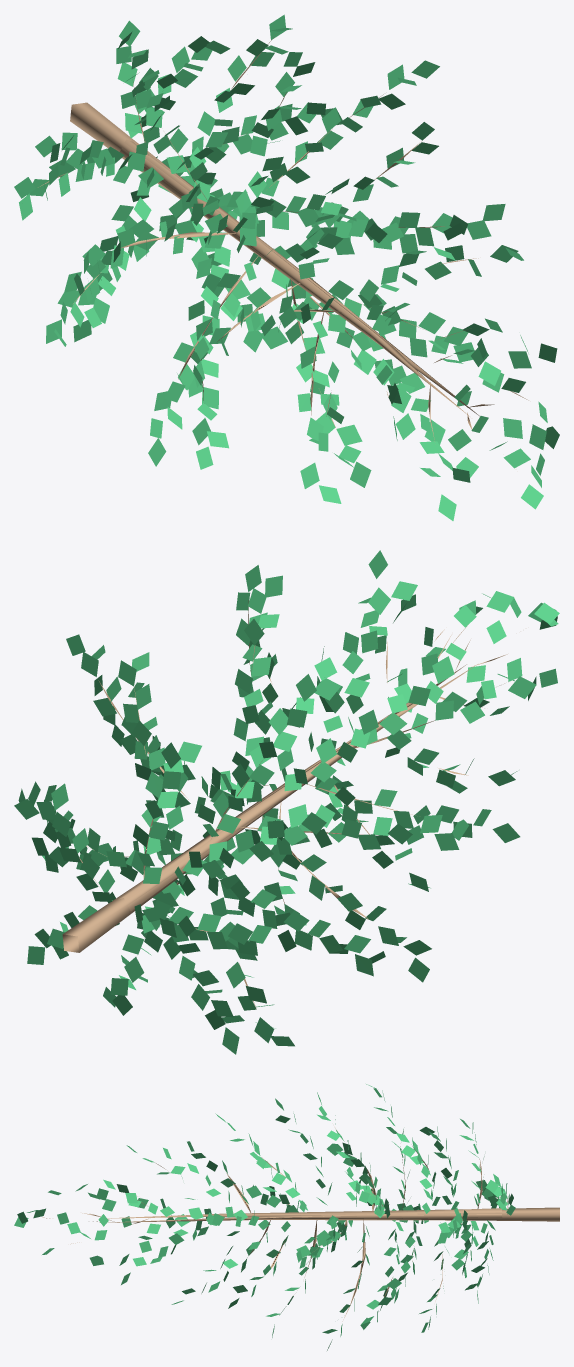
Rendered from saplingTree_medium.glb.
3 renders of one model, top to bottom at view 1: azimuth 30°, elevation 25°; view 2: azimuth 150°, elevation 25°; view 3: azimuth 270°, elevation 25°, orthographic. The views are drawn at different scales.
Visible parts, largest first — view 1: saplingTree.001; view 2: saplingTree.001; view 3: saplingTree.001.
Boxes of the visible parts, box(x1,y1,x2,y2) form: saplingTree.001: box(14, 14, 559, 520); saplingTree.001: box(14, 550, 559, 1054); saplingTree.001: box(14, 1084, 559, 1350).
Size of the model in its own units: 2.14 by 2.22 by 4.4.
